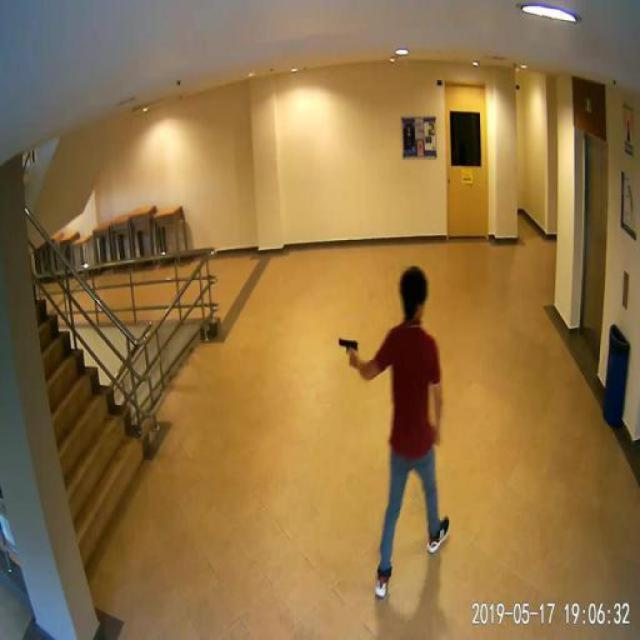pistol: (336, 335, 356, 364)
